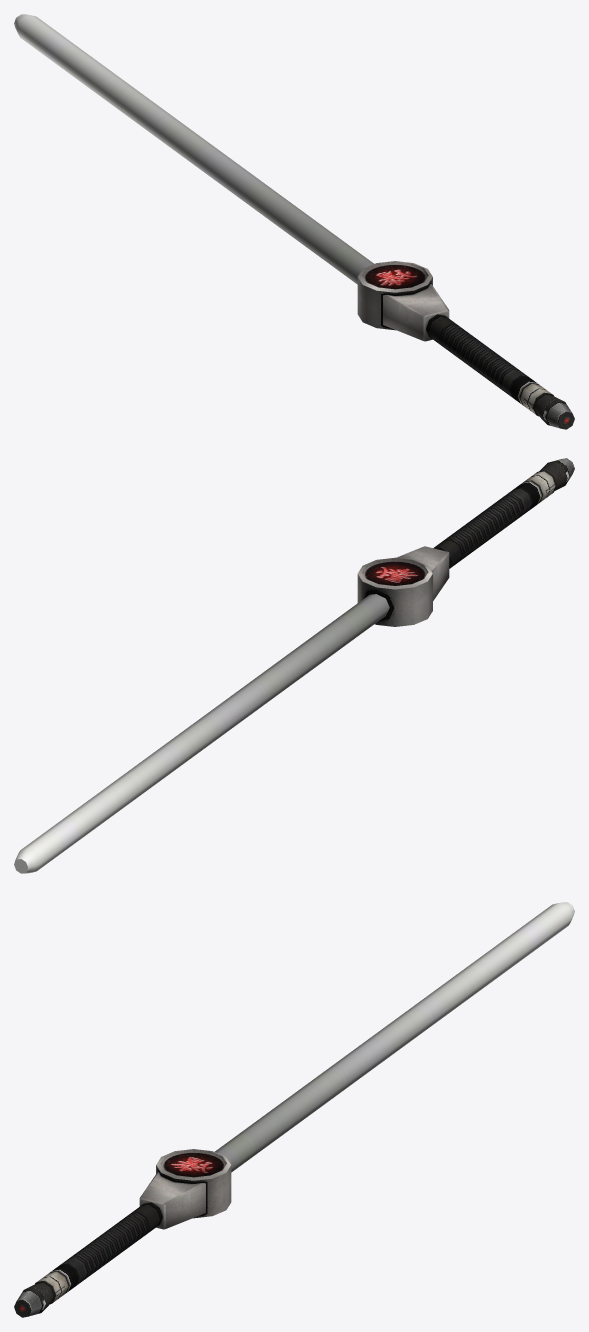
The model's file is sword_bakusatu_bakusatu1.glb.
3 renders of one model, top to bottom at view 1: azimuth 30°, elevation 25°; view 2: azimuth 150°, elevation 25°; view 3: azimuth 330°, elevation 25°, orthographic.
Bounding box in the file's own units: 0.1009 × 0.0604 × 1.46.
Materials: 1 (1 with a texture image).
